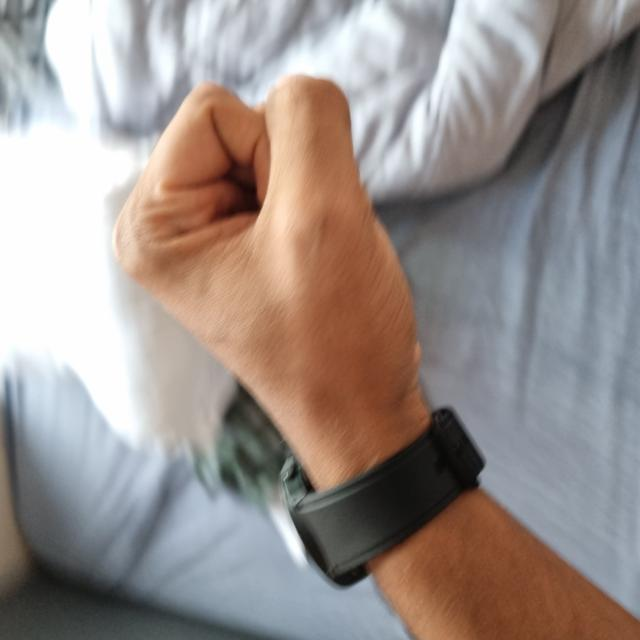Rock: (160, 120, 566, 420)
